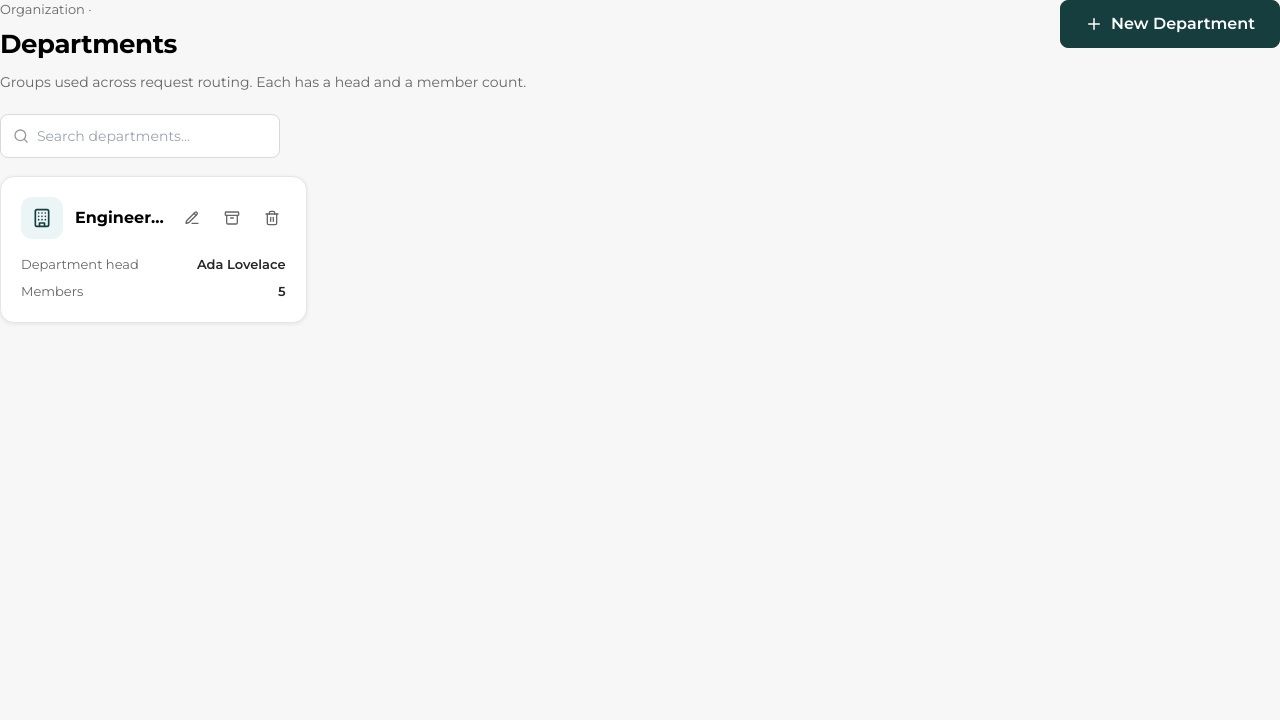
deleting an unused department succeeds and reloads the list
Expected: the text "Engineering" is shown, [75,206,166,230]
Click the button named "Delete Engineering": point(272, 218) [258,204,286,232]
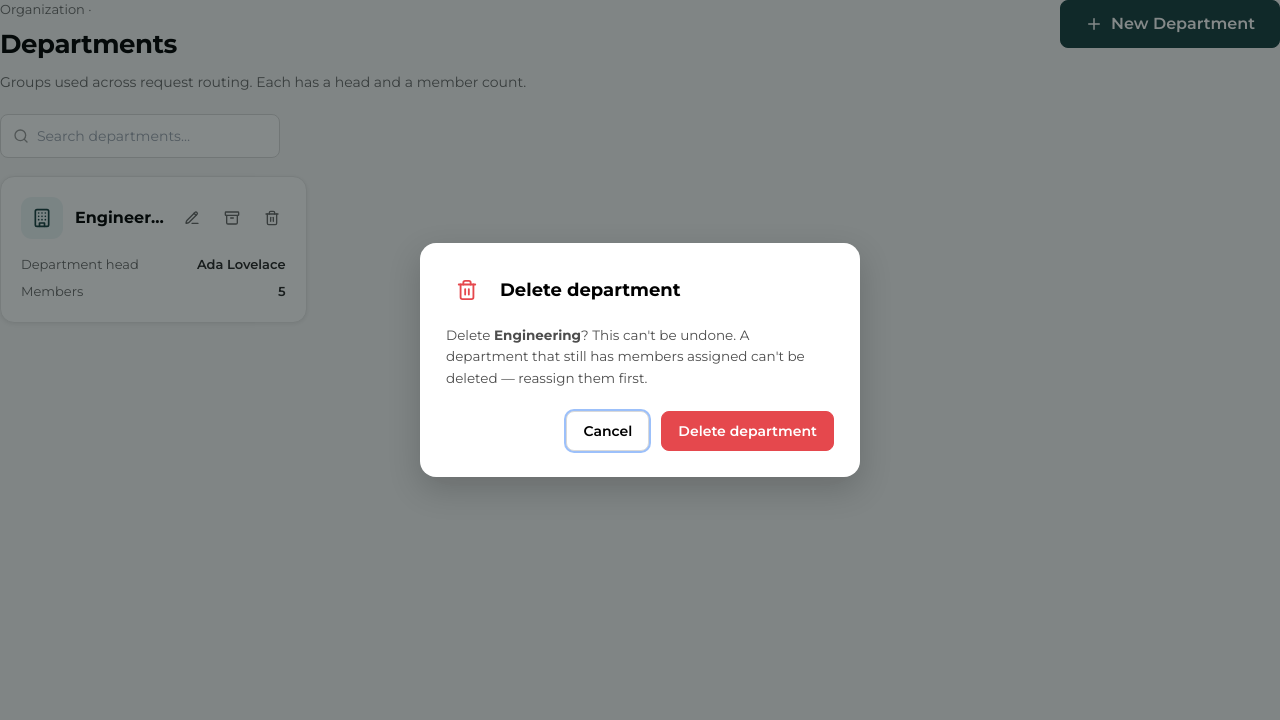
Click the button "Delete department": point(748, 431) [661,411,834,451]
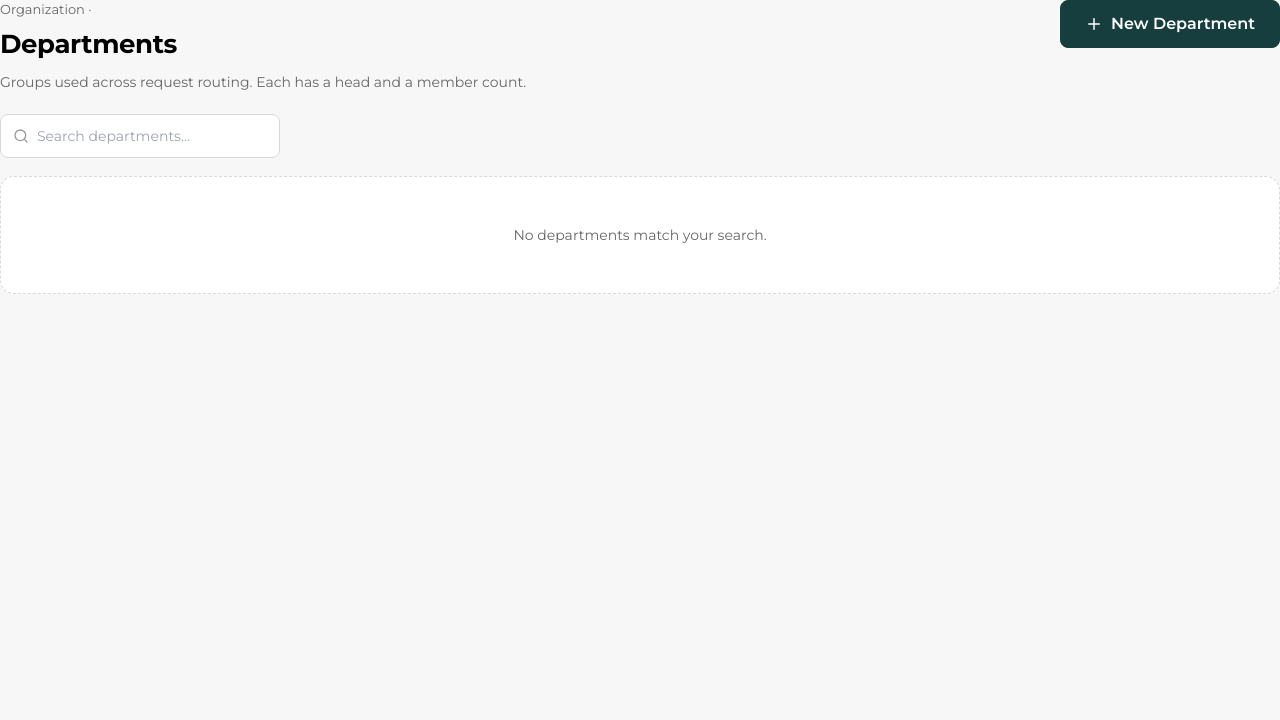
Now the text "No departments match your search." is shown, box [0,176,1279,294]
